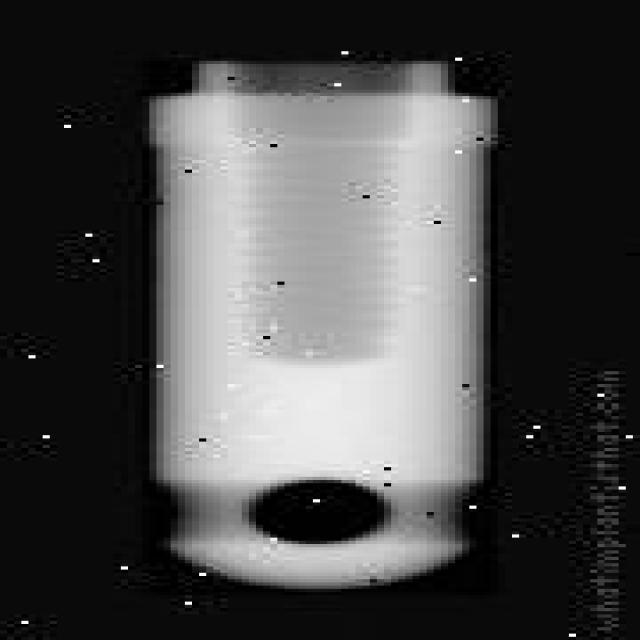Leone Implant: (142, 60, 505, 597)
